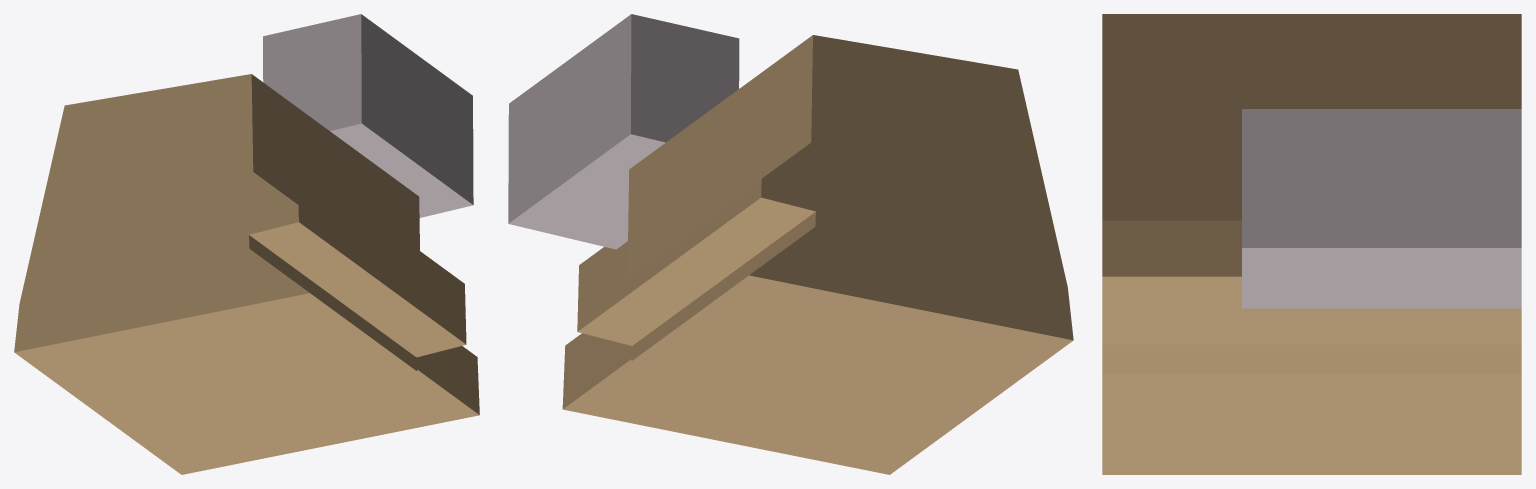
3 renders of one model, left to right at view 1: azimuth 30°, elevation 25°; view 2: azimuth 150°, elevation 25°; view 3: azimuth 270°, elevation 25°, orthographic. The views are drawn at different scales.
Parts seen in each view (by area): view 1: 0_3_0_1_1_1_0_2_3; view 2: 0_3_0_1_1_1_0_2_3; view 3: 0_3_0_1_1_1_0_2_3.
Part boxes in pixels (x1,y1,x2,y2): 0_3_0_1_1_1_0_2_3: (14,14,479,474); 0_3_0_1_1_1_0_2_3: (508,14,1073,474); 0_3_0_1_1_1_0_2_3: (1102,14,1521,474).
Size of the model in its own units: 32.35 by 23.86 by 27.
